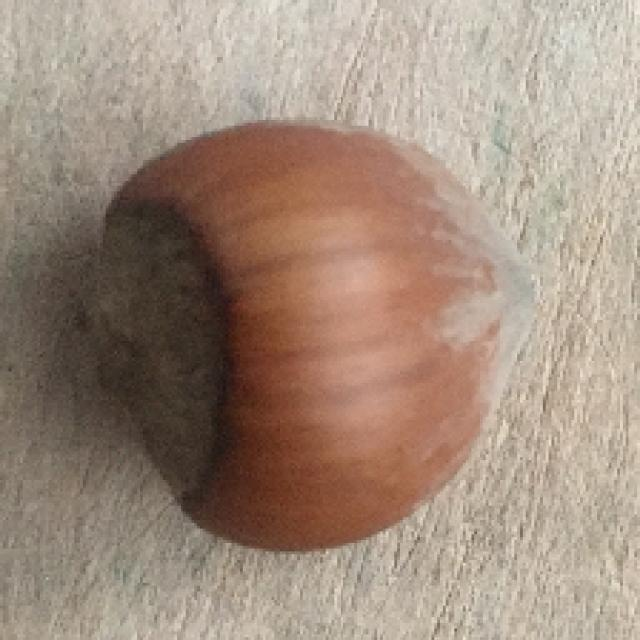qualityHazelnut: (79, 108, 548, 556)
